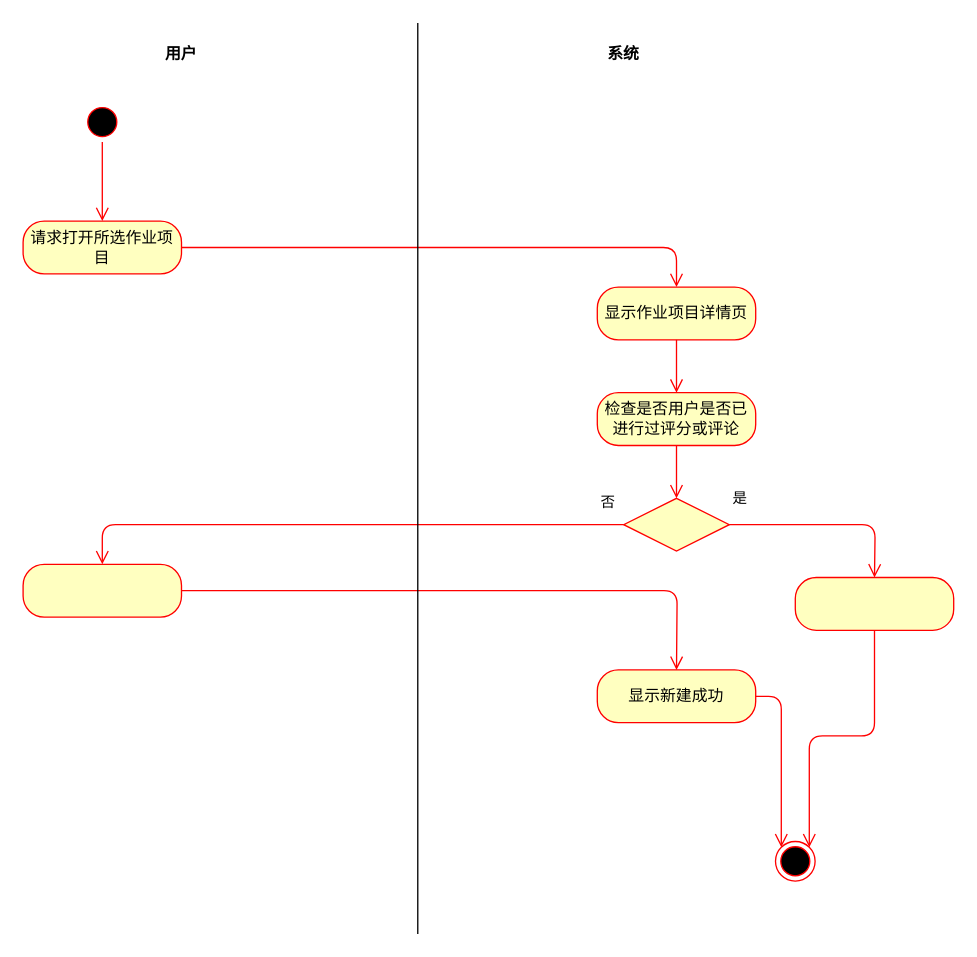
Some shapes in this 977 by 957 pixel diagram are drawn without their labels. The shapes that lost their labels are listed below. From the top down, each one's centre as x and y in pixels, then its label:
At point (102, 590): "评论或评分".
At point (874, 603): "评论或评分按钮不可用".
